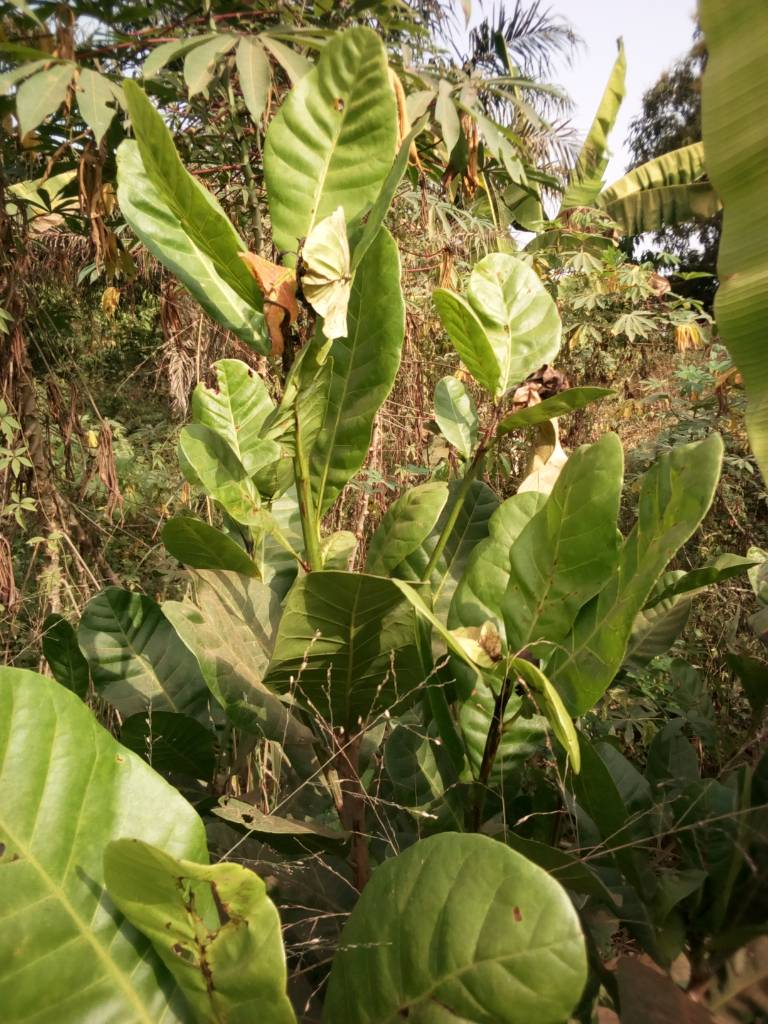Anthracnose: (104, 842, 293, 1019), (507, 438, 625, 653)
